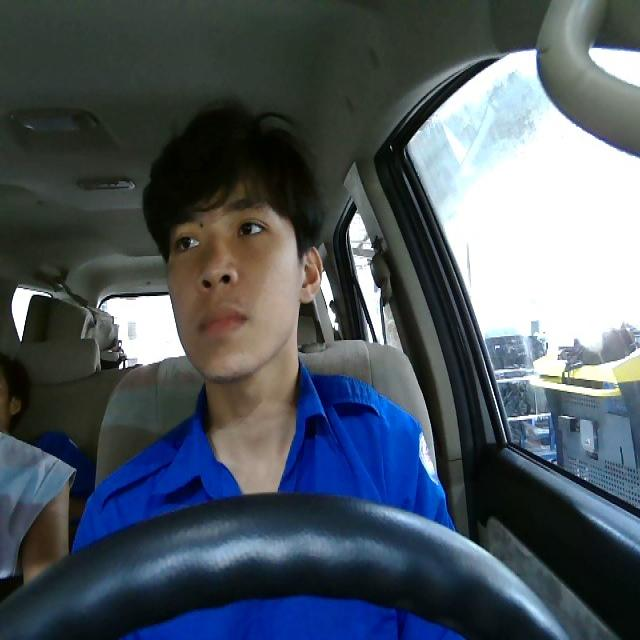seeing_left: (163, 175, 323, 381)
